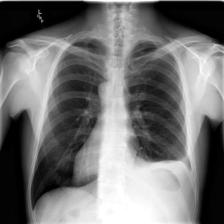normal: (26, 34, 193, 208)
